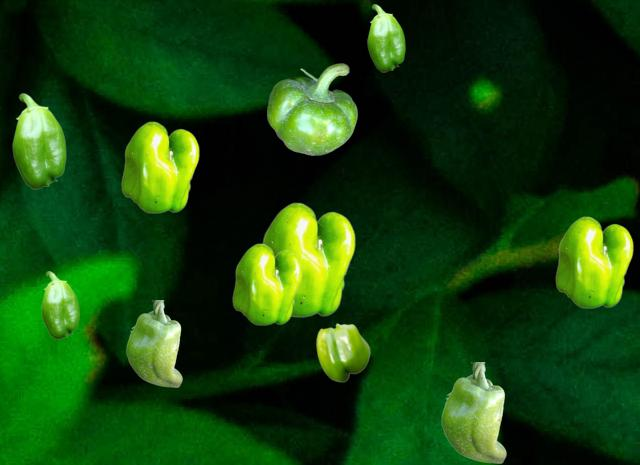bell_pepper: (262, 202, 354, 316), (267, 63, 356, 154), (555, 216, 632, 307), (121, 121, 198, 212), (441, 362, 505, 462), (232, 243, 301, 324), (12, 93, 65, 188), (126, 300, 181, 386), (316, 323, 369, 381), (367, 4, 404, 71), (41, 271, 78, 338)
